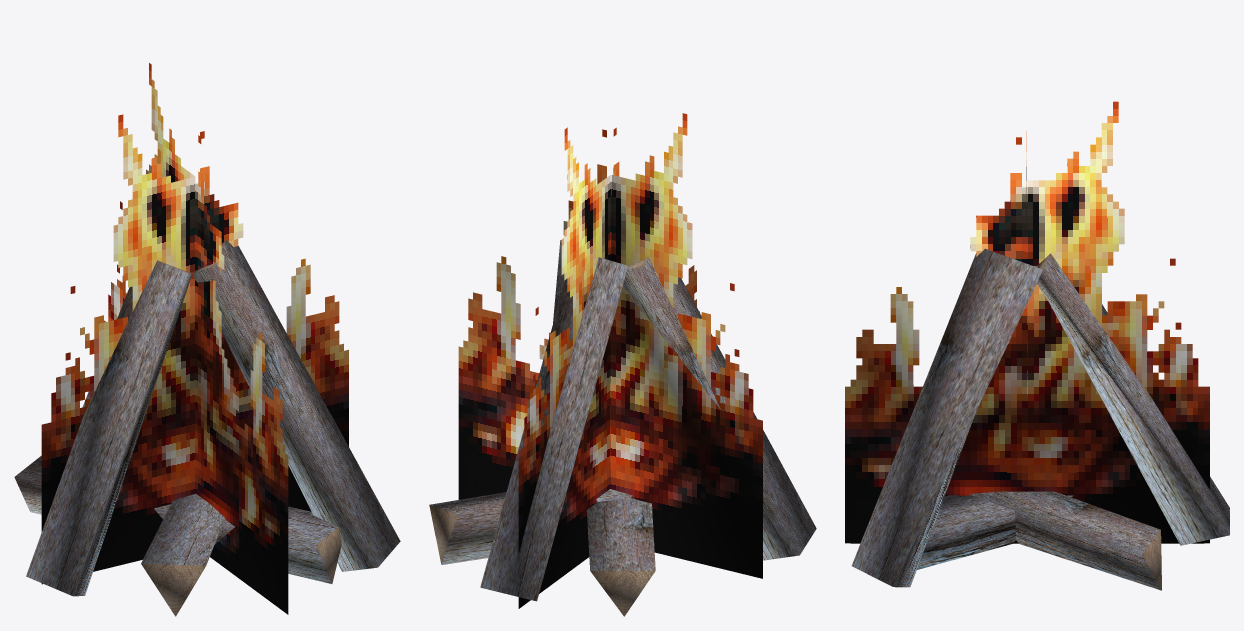
Rendered from Camp_fire_1.fbx.
3 views of the same model, side by side, from view 1: azimuth 30°, elevation 25°; view 2: azimuth 150°, elevation 25°; view 3: azimuth 270°, elevation 25° (orthographic).
Parts seen in each view (by area): view 1: Camp_fire_1; view 2: Camp_fire_1; view 3: Camp_fire_1.
Boxes of the visible parts, x1,y1,x2,y2 form: Camp_fire_1: (14,63,400,616); Camp_fire_1: (429,113,816,616); Camp_fire_1: (845,101,1229,590).
Size of the model in its own units: 2.25 by 3.02 by 2.29.
